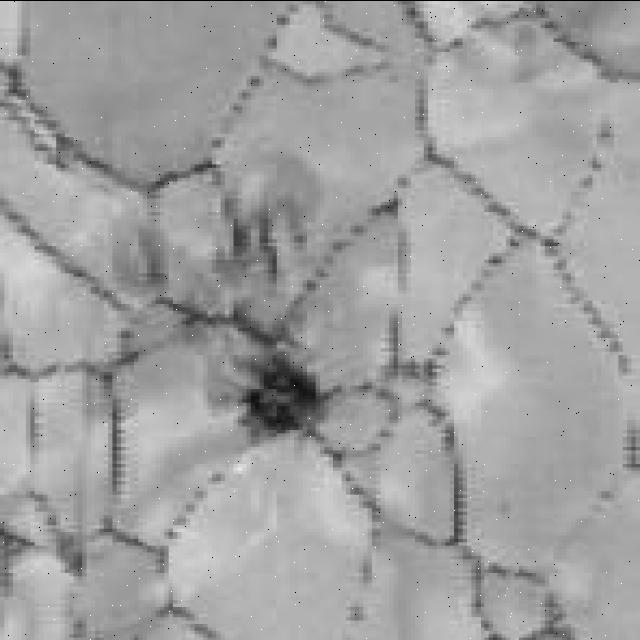good_void: (219, 343, 327, 443)
